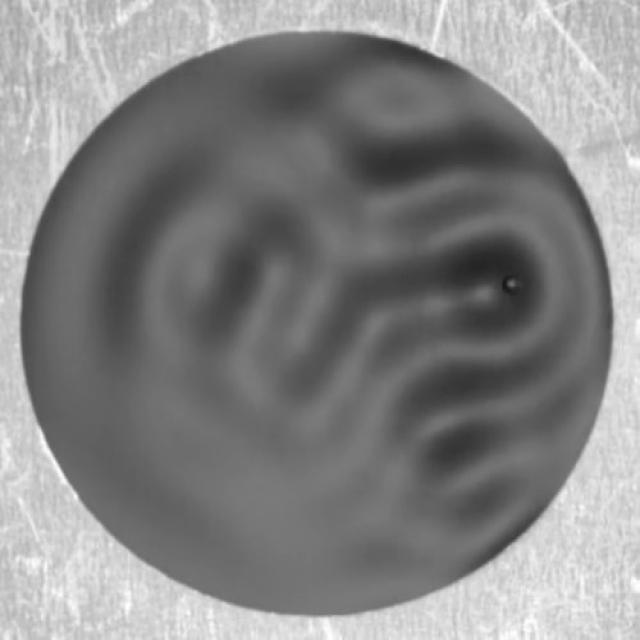droplet: (504, 274, 524, 298)
